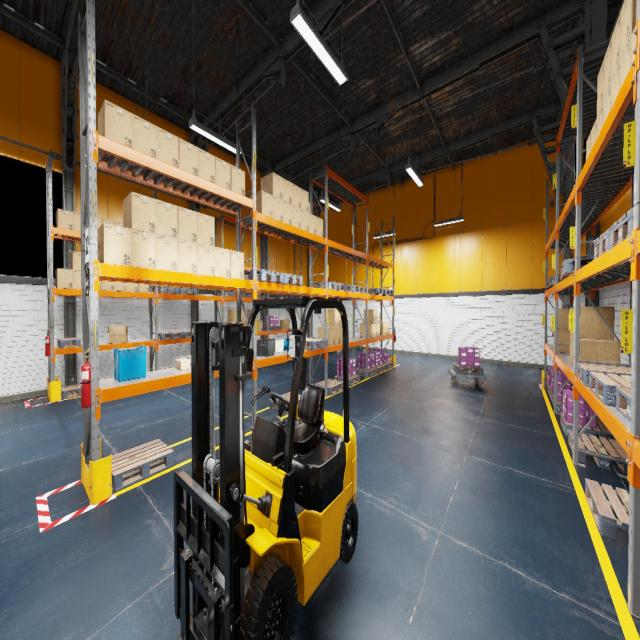box: (98, 99, 132, 148), (97, 223, 132, 266), (580, 338, 620, 374), (123, 191, 156, 234), (573, 307, 614, 340), (133, 114, 157, 158), (620, 0, 636, 62), (157, 126, 179, 168), (132, 230, 156, 268), (156, 199, 178, 239), (156, 235, 178, 271), (179, 137, 198, 176), (178, 206, 197, 242), (611, 11, 620, 83), (178, 240, 197, 274), (250, 190, 273, 218), (198, 148, 216, 183), (260, 172, 282, 200), (198, 212, 215, 247), (215, 156, 231, 190), (620, 37, 630, 90), (198, 243, 214, 276), (604, 37, 612, 101), (215, 246, 230, 278), (596, 58, 604, 116), (610, 63, 620, 108), (231, 164, 245, 196), (230, 250, 244, 279), (108, 325, 128, 343), (55, 268, 73, 288), (56, 209, 73, 230), (603, 84, 611, 125), (318, 326, 334, 345), (324, 309, 340, 326), (558, 330, 570, 352), (558, 308, 570, 330), (596, 102, 603, 139), (630, 24, 636, 67), (272, 196, 282, 221), (292, 183, 301, 209), (283, 178, 292, 204), (283, 201, 292, 225), (70, 251, 81, 270), (292, 205, 301, 228), (301, 188, 309, 212), (360, 323, 373, 337), (175, 358, 190, 370), (301, 209, 309, 231), (377, 322, 390, 335), (591, 118, 596, 150), (73, 270, 81, 289), (73, 212, 81, 231), (586, 131, 591, 161), (316, 216, 323, 237), (309, 213, 316, 234), (364, 310, 376, 322), (102, 281, 115, 290), (247, 309, 257, 320), (127, 282, 138, 292), (138, 283, 149, 292), (115, 282, 126, 291), (228, 310, 236, 322), (102, 218, 115, 225), (335, 326, 340, 344), (280, 319, 289, 329), (570, 308, 573, 336), (341, 309, 345, 325), (570, 336, 572, 366), (572, 337, 574, 366), (373, 323, 377, 337), (97, 218, 102, 228), (258, 320, 262, 331), (377, 322, 380, 336), (115, 221, 123, 226), (241, 309, 244, 321), (340, 326, 342, 343), (188, 356, 191, 365), (100, 281, 102, 290), (241, 321, 244, 324), (552, 330, 553, 336), (245, 321, 247, 324), (554, 330, 554, 348)
forklift: (191, 297, 358, 639)
pallets: (112, 439, 173, 492), (585, 478, 629, 541), (568, 430, 627, 474), (560, 412, 613, 440), (589, 372, 631, 406), (576, 362, 631, 386), (610, 207, 633, 249), (269, 392, 301, 414), (561, 256, 594, 276), (593, 228, 610, 259), (244, 270, 284, 283), (616, 387, 630, 421), (315, 379, 343, 395), (266, 273, 303, 285), (560, 265, 585, 280), (453, 363, 483, 375), (334, 374, 361, 386), (61, 383, 81, 399), (304, 338, 328, 350), (57, 337, 82, 348), (155, 331, 183, 340), (313, 282, 341, 290), (356, 367, 378, 377), (153, 286, 179, 294), (552, 394, 563, 412), (365, 288, 386, 295), (548, 276, 560, 287), (179, 288, 197, 295), (374, 364, 386, 373), (376, 289, 393, 295), (347, 286, 364, 292), (546, 280, 558, 288), (178, 330, 190, 338), (217, 291, 236, 296), (382, 361, 393, 369), (234, 292, 251, 297), (341, 284, 352, 291), (262, 326, 280, 330), (251, 293, 265, 298), (274, 294, 291, 298), (549, 388, 553, 402), (547, 382, 550, 395)
